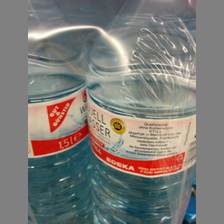water: (84, 1, 196, 224), (28, 1, 86, 224)
